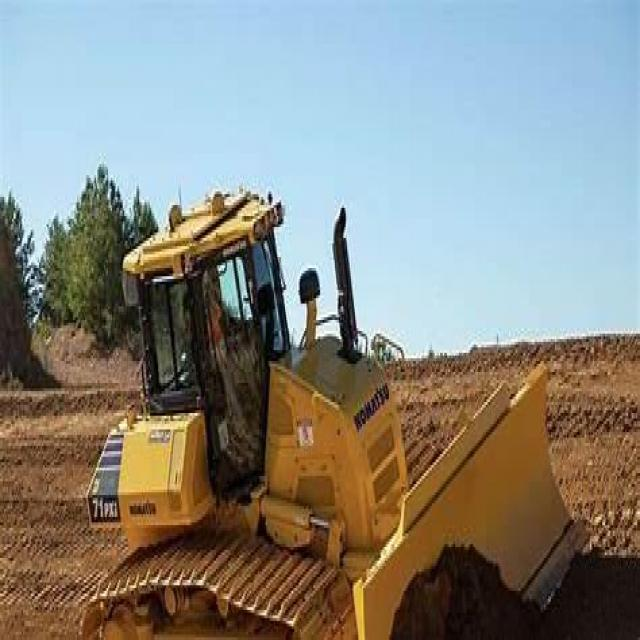Bulldozer: (79, 159, 596, 637)
